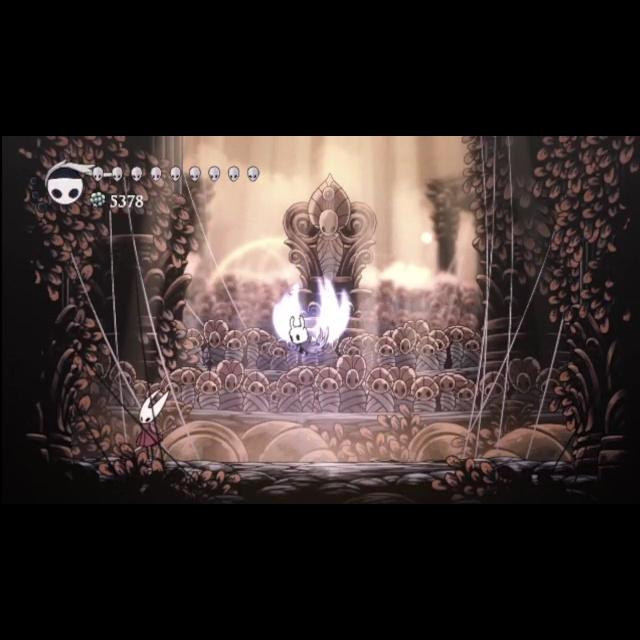Enemy: (121, 384, 185, 464)
Player: (280, 313, 328, 361)
